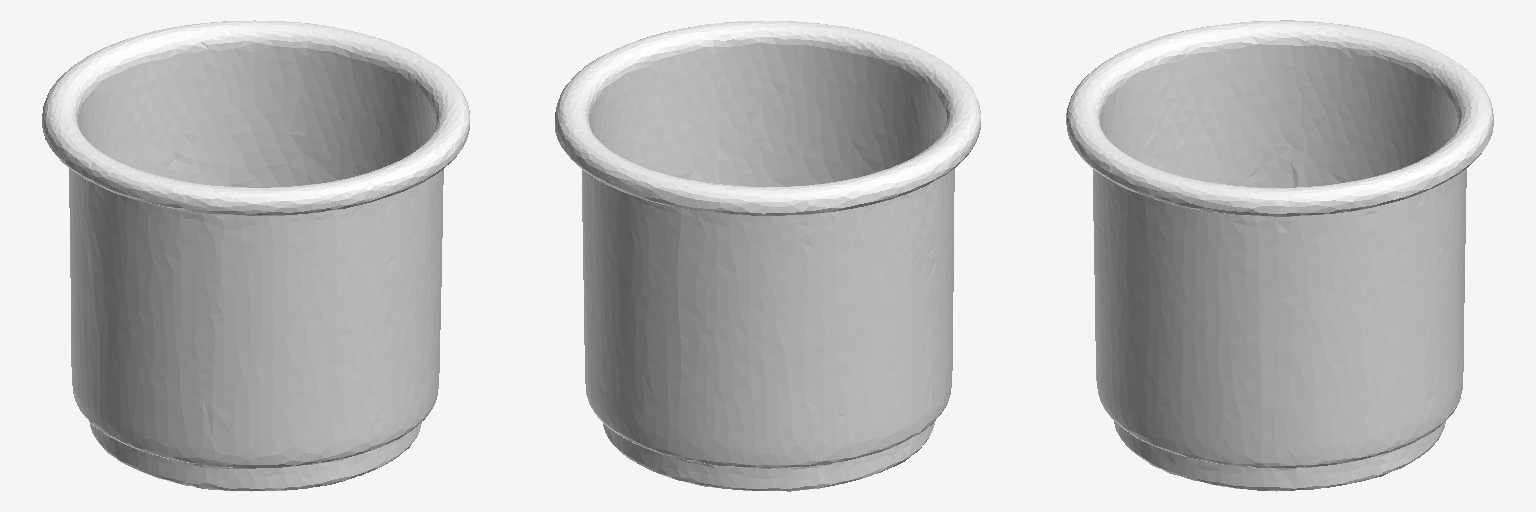
robot.urdf — 053_mini_soccer_ball:
<robot name="053_mini_soccer_ball">
	<link name="_name">
		<visual>
			<origin xyz="0.05912591400717594 -0.1153056180076441 -0.6131555334762108" rpy="0 0 0" />
			<geometry>
				<mesh filename="053_mini_soccer_ball/google_16k/textured.obj" scale="10 10 10" />
			</geometry>
			<material name="texture">
				<color rgba="1.0 1.0 1.0 1.0" />
			</material>
		</visual>
		<collision>
			<geometry>
				<mesh filename="053_mini_soccer_ball/google_16k/textured_vhacd.obj" scale="10 10 10" />
			</geometry>
		<origin xyz="0.05912591400717594 -0.1153056180076441 -0.6131555334762108" rpy="0 0 0" /></collision>
		<inertial>
			<mass value="1.0" />
			<inertia ixx="1.0" ixy="0.0" ixz="0.0" iyy="1.0" iyz="0.0" izz="1.0" />
		</inertial>
	</link>
</robot>

--- What the picture shows (computed from the rendered views, not written in the file) ---
Views: 3 orthographic renders of the robot side by side, from view 1: azimuth 30°, elevation 25°; view 2: azimuth 150°, elevation 25°; view 3: azimuth 270°, elevation 25°.
Robot: 053_mini_soccer_ball — 1 links, 0 joints (none); root link _name; default pose: every joint at zero.
Visible links, largest first — view 1: _name; view 2: _name; view 3: _name.
Link boxes in pixels (x1=…): _name: x1=42, y1=20, x2=469, y2=491; _name: x1=555, y1=20, x2=980, y2=491; _name: x1=1066, y1=20, x2=1493, y2=491.
Size in the robot's own frame: 0.915 by 0.9162 by 0.7506 metres.
Meshes: 1 distinct files referenced, 1 mesh visuals loaded (1 OBJ).